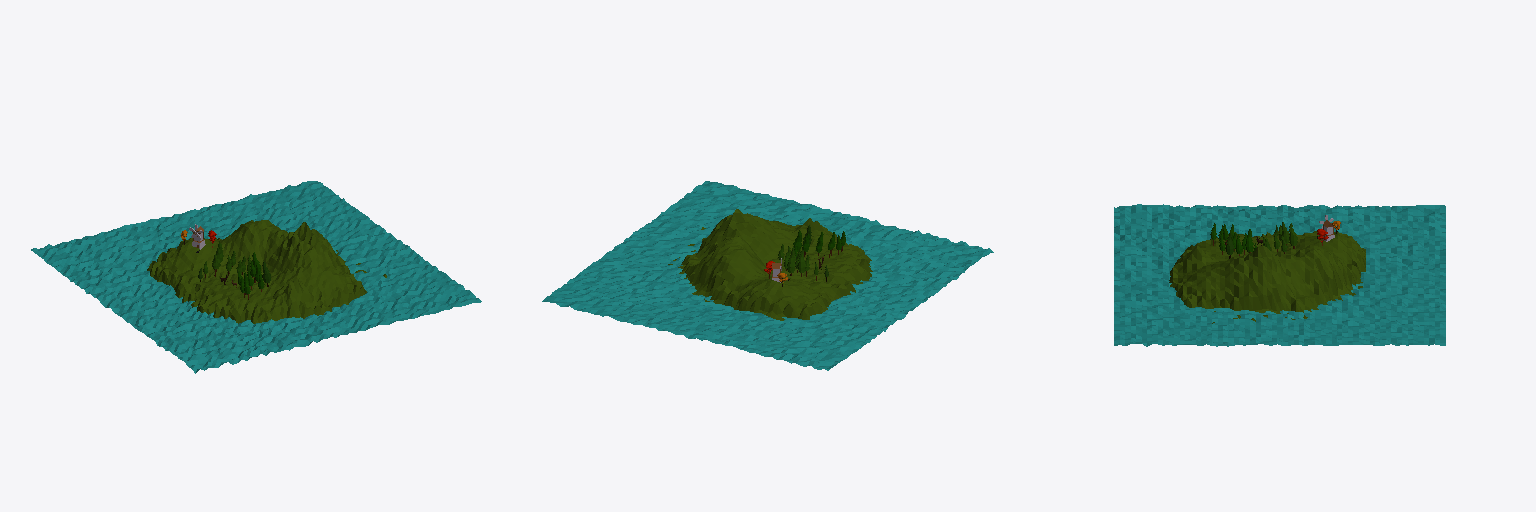
The model's file is island.obj.
3 views of the same model, side by side, from view 1: azimuth 30°, elevation 25°; view 2: azimuth 150°, elevation 25°; view 3: azimuth 270°, elevation 25° (orthographic).
Parts seen in each view (by area): view 1: water_Plane.001, Hills_Plane; view 2: water_Plane.001, Hills_Plane; view 3: water_Plane.001, Hills_Plane.
Part boxes in pixels (left/top/right/bottom): water_Plane.001: left=31, top=181, right=481, bottom=373; Hills_Plane: left=147, top=220, right=386, bottom=323; water_Plane.001: left=542, top=181, right=993, bottom=370; Hills_Plane: left=668, top=209, right=872, bottom=320; water_Plane.001: left=1114, top=204, right=1445, bottom=346; Hills_Plane: left=1169, top=231, right=1365, bottom=323.
Bounding box in the file's own units: 38.22 × 7.81 × 38.22.